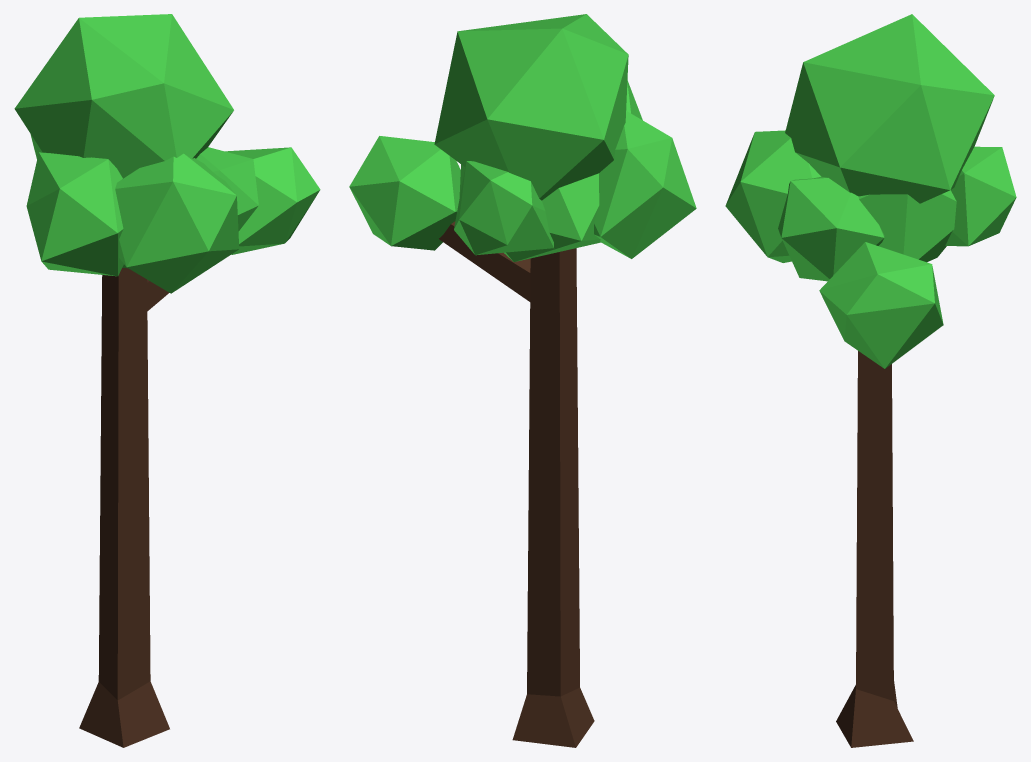
File: LowPolyTree6Medium.fbx
3 renders of one model, left to right at view 1: azimuth 30°, elevation 25°; view 2: azimuth 150°, elevation 25°; view 3: azimuth 270°, elevation 25°, orthographic. The views are drawn at different scales.
Parts seen in each view (by area): view 1: Leaves, Tree3; view 2: Leaves, Tree3; view 3: Leaves, Tree3.
Part boxes in pixels (x1,y1,x2,y2): Leaves: (14, 14, 320, 293); Tree3: (79, 267, 169, 747); Leaves: (349, 14, 696, 261); Tree3: (439, 221, 594, 747); Leaves: (725, 14, 1016, 368); Tree3: (836, 351, 913, 747).
Size of the model in its own units: 1286 by 2950 by 1106.
